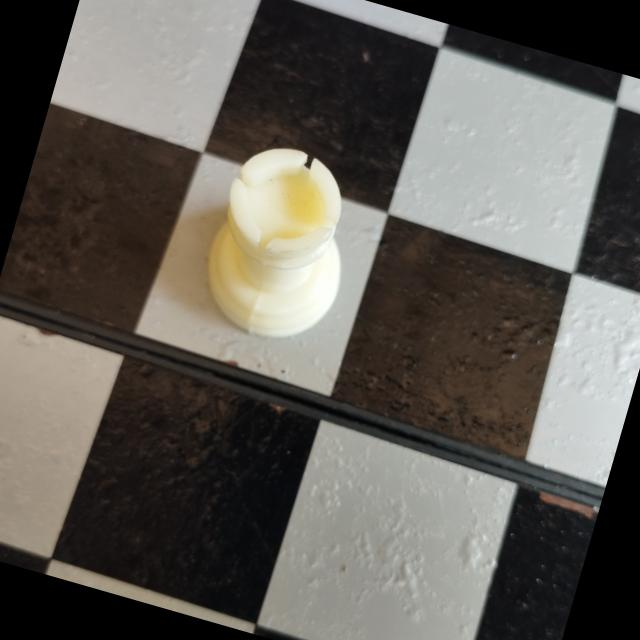White Rook: (184, 128, 376, 361)
